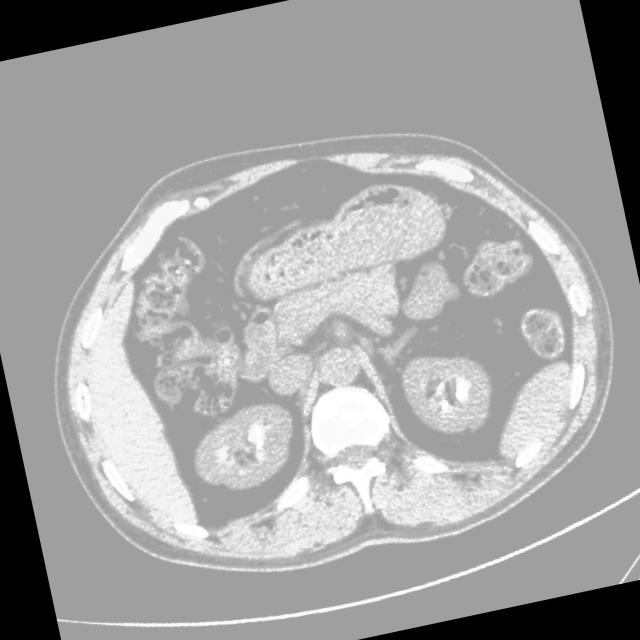STONE: (170, 271, 472, 509)
